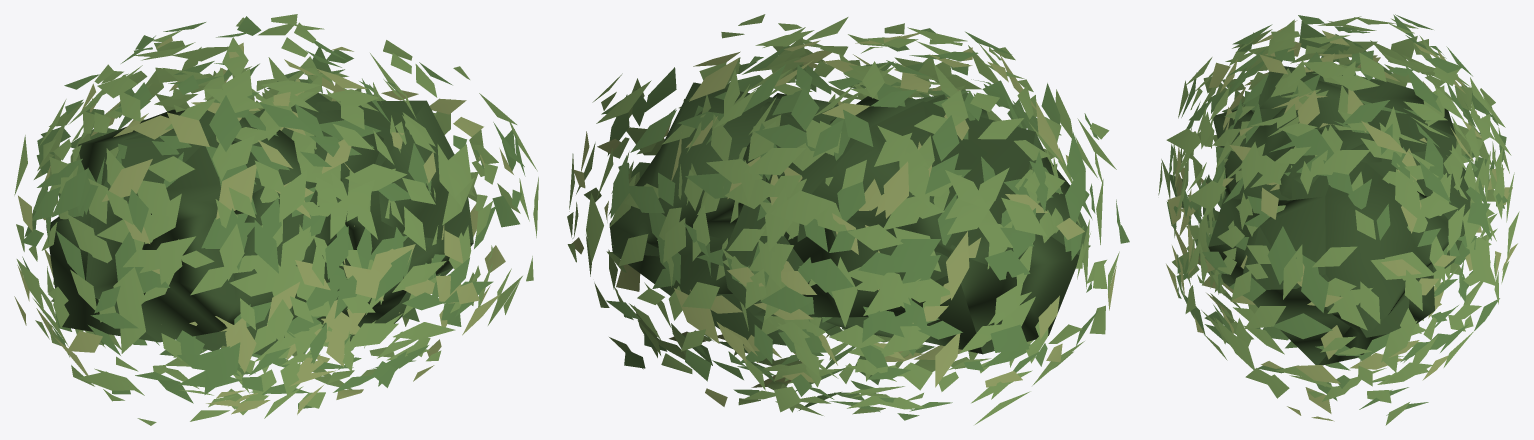
Rendered from ZR_LeafyBush_B.fbx.
3 renders of one model, left to right at view 1: azimuth 30°, elevation 25°; view 2: azimuth 150°, elevation 25°; view 3: azimuth 270°, elevation 25°, orthographic. The views are drawn at different scales.
Visible parts, largest first — view 1: ZR_LeafyBush_B; view 2: ZR_LeafyBush_B; view 3: ZR_LeafyBush_B.
Boxes of the visible parts, x1,y1,x2,y2 form: ZR_LeafyBush_B: (14, 14, 538, 425); ZR_LeafyBush_B: (567, 14, 1129, 424); ZR_LeafyBush_B: (1158, 14, 1519, 425).
Bounding box in the file's own units: 1.82 × 1.36 × 1.32.
